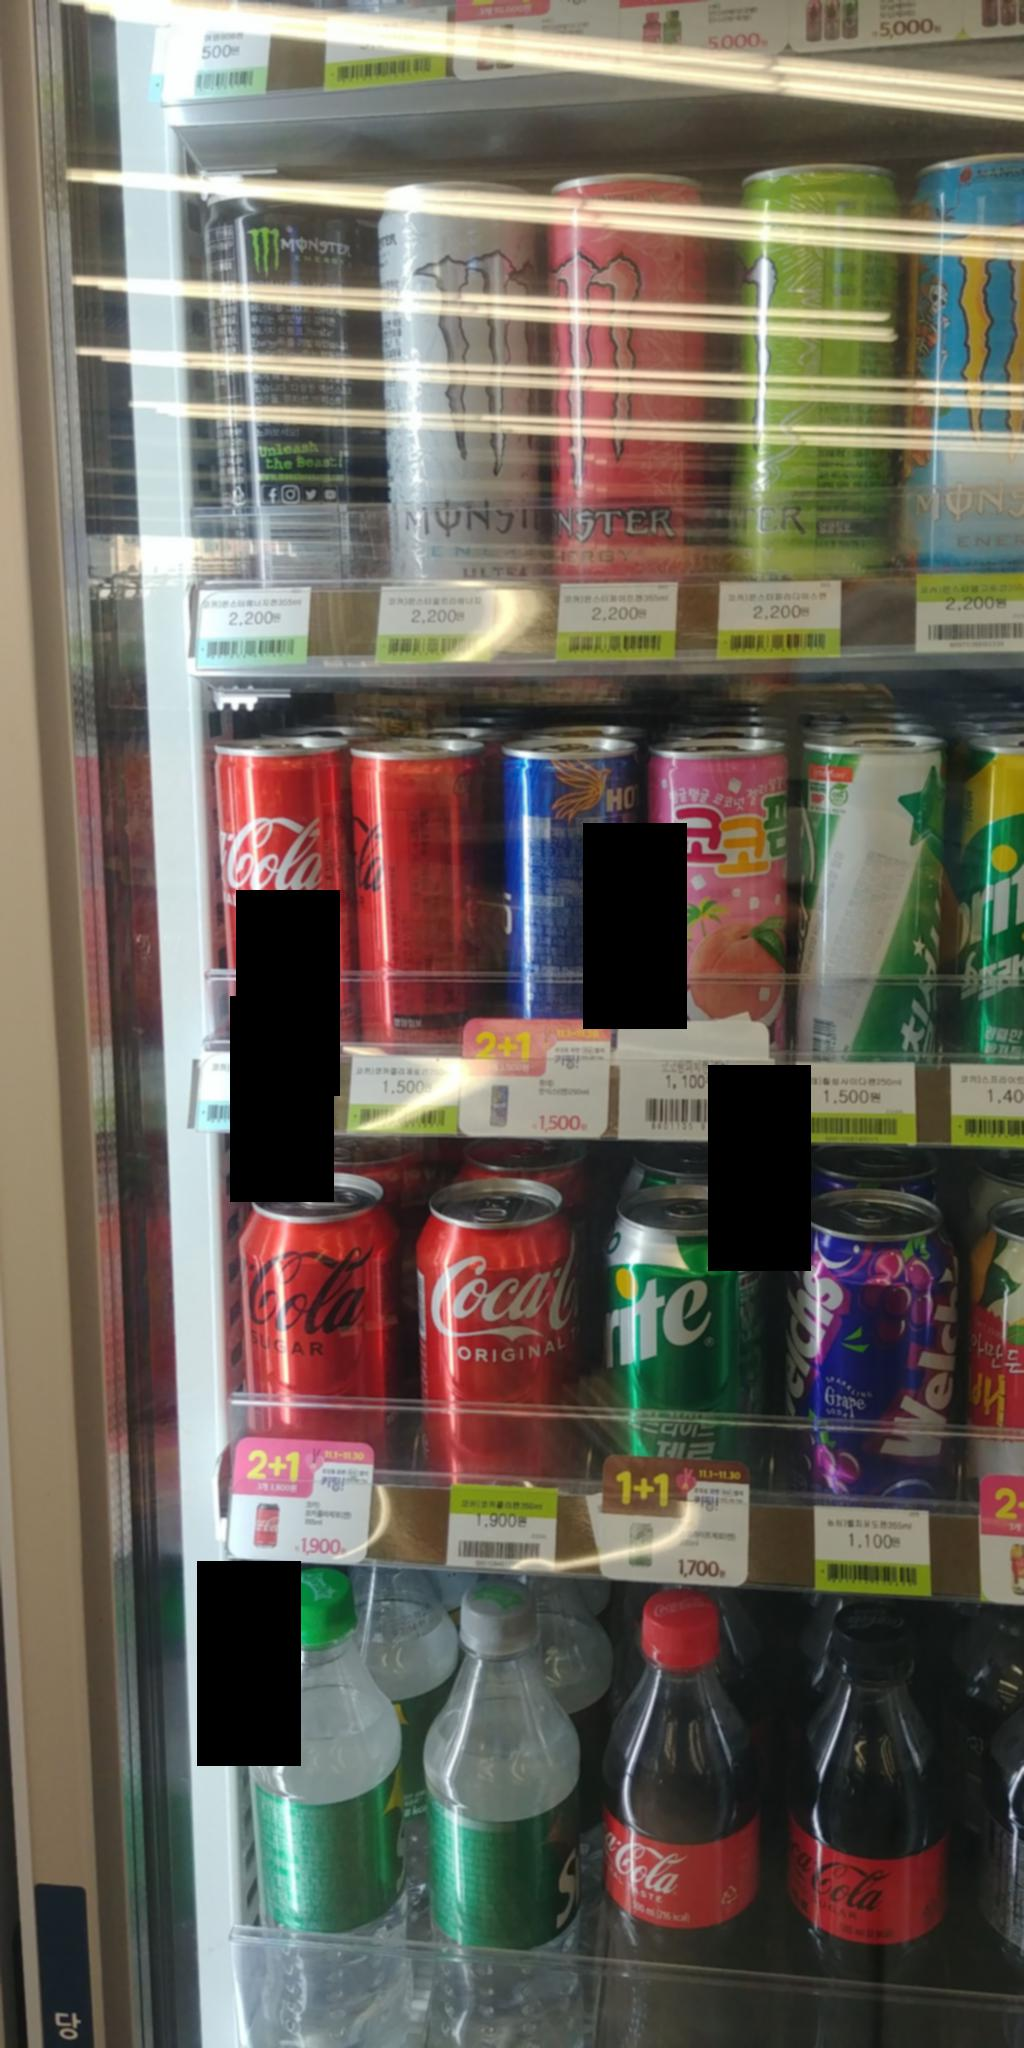cocacola: (419, 1169, 573, 1481)
cocacola_zero: (341, 735, 498, 1031)
hotsix_org: (499, 734, 648, 1019)
sprite_zero: (406, 1573, 596, 2043)
